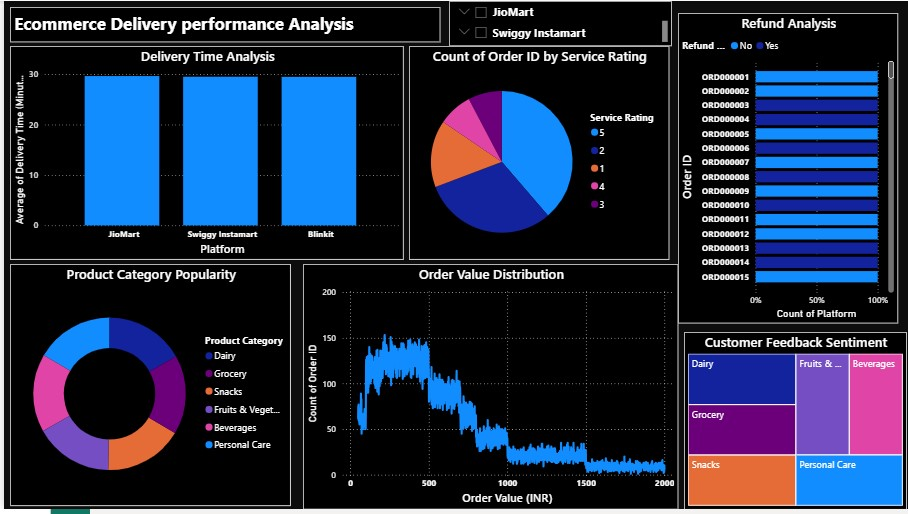

This screenshot's page, from the dashboard's own definition file:
{"tool":"powerbi","page":{"name":"Page 2","canvas":[1280,720],"ordinal":0},"visuals":[{"type":"columnChart","title":" Delivery Time Analysis","fields":{"Category":["Ecommerce_Delivery_Analytics_Cleaned.Platform"],"Y":["Avg(Ecommerce_Delivery_Analytics_Cleaned.Delivery Time (Minutes))"]},"box":[8.5,63.8,558.4,303.3],"z":0},{"type":"lineChart","title":"Order Value Distribution","fields":{"Category":["Ecommerce_Delivery_Analytics_Cleaned.Order Value (INR)"],"Y":["CountNonNull(Ecommerce_Delivery_Analytics_Cleaned.Order ID)"]},"box":[423.1,372.3,532.3,347.7],"z":1000},{"type":"hundredPercentStackedBarChart","title":"Refund Analysis","fields":{"Y":["CountNonNull(Ecommerce_Delivery_Analytics_Cleaned.Platform)"],"Series":["Ecommerce_Delivery_Analytics_Cleaned.Refund Requested"],"Category":["Ecommerce_Delivery_Analytics_Cleaned.Order ID"]},"box":[955.2,17.2,312.1,439.7],"z":2000},{"type":"donutChart","title":"Product Category Popularity","fields":{"Category":["Ecommerce_Delivery_Analytics_Cleaned.Product Category"],"Y":["CountNonNull(Ecommerce_Delivery_Analytics_Cleaned.Order ID)"]},"box":[8.6,372.4,398.3,343.1],"z":3000},{"type":"treemap","title":" Customer Feedback Sentiment","fields":{"Group":["Ecommerce_Delivery_Analytics_Cleaned.Product Category"],"Values":["CountNonNull(Ecommerce_Delivery_Analytics_Cleaned.Customer Feedback)"]},"box":[963.8,469,315.5,251.7],"z":4000},{"type":"pieChart","fields":{"Category":["Ecommerce_Delivery_Analytics_Cleaned.Service Rating"],"Y":["CountNonNull(Ecommerce_Delivery_Analytics_Cleaned.Order ID)"]},"box":[574.1,63.8,369,303.4],"z":5000},{"type":"slicer","fields":{"Values":["Ecommerce_Delivery_Analytics_Cleaned.Platform","Ecommerce_Delivery_Analytics_Cleaned.Product Category","Ecommerce_Delivery_Analytics_Cleaned.Order Date & Time","Ecommerce_Delivery_Analytics_Cleaned.Refund Requested"]},"box":[631,0,315.5,63.8],"z":6000},{"type":"textbox","box":[8.6,8.6,610.3,50],"z":7000}]}

Visuals, with their boxes in screenshot pixels (x1, y1, x2, y2), scaled from the page's 1280x720 canvas onto the 908x514 screenshot:
" Delivery Time Analysis" columnChart: locate(6, 46, 402, 262)
"Order Value Distribution" lineChart: locate(300, 266, 678, 513)
"Refund Analysis" hundredPercentStackedBarChart: locate(678, 12, 899, 326)
"Product Category Popularity" donutChart: locate(6, 266, 289, 511)
" Customer Feedback Sentiment" treemap: locate(684, 335, 907, 513)
pieChart - Ecommerce_Delivery_Analytics_Cleaned.Service Rating x CountNonNull(Ecommerce_Delivery_Analytics_Cleaned.Order ID): locate(407, 46, 669, 262)
slicer - Ecommerce_Delivery_Analytics_Cleaned.Platform x Ecommerce_Delivery_Analytics_Cleaned.Product Category: locate(448, 0, 671, 46)
textbox: locate(6, 6, 439, 42)
